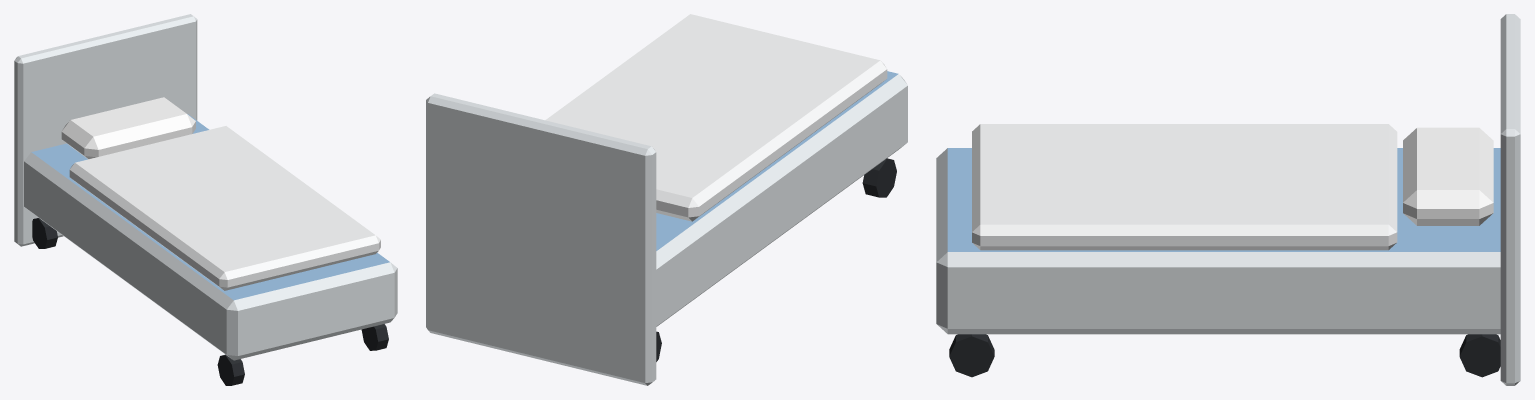
Rendered from bed.fbx.
3 views of the same model, side by side, from view 1: azimuth 30°, elevation 25°; view 2: azimuth 150°, elevation 25°; view 3: azimuth 270°, elevation 25° (orthographic). The views are drawn at different scales.
Visible parts, largest first — view 1: bed; view 2: bed; view 3: bed.
Part boxes in pixels (x1=…): bed: x1=14, y1=14, x2=397, y2=385; bed: x1=426, y1=14, x2=907, y2=385; bed: x1=936, y1=14, x2=1520, y2=385.
Bounding box in the file's own units: 1 × 1 × 2.06.
